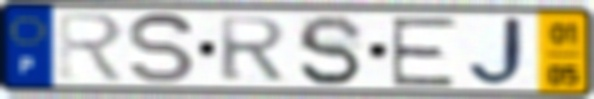E: (387, 15, 460, 88)
J: (466, 15, 534, 90)
R: (55, 10, 129, 85), (215, 15, 291, 84)
S: (294, 12, 367, 89), (125, 10, 198, 87)
